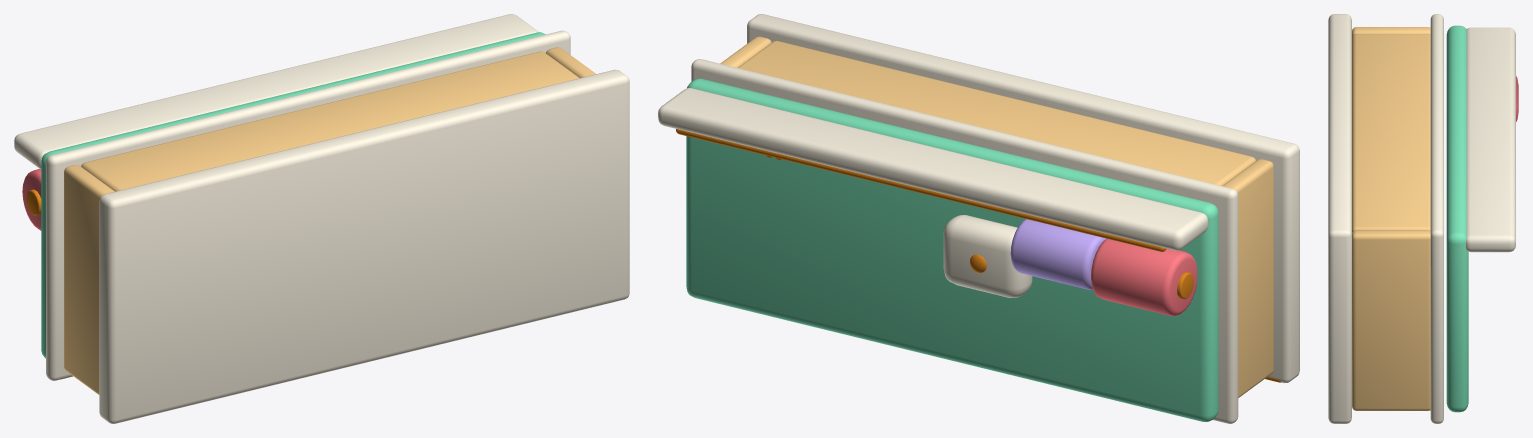
The model's file is BedroomWindowDaybed_Premium.fbx.
3 views of the same model, side by side, from view 1: azimuth 30°, elevation 25°; view 2: azimuth 150°, elevation 25°; view 3: azimuth 270°, elevation 25° (orthographic). The views are drawn at different scales.
Visible parts, largest first — view 1: BedroomWindowDaybed; view 2: BedroomWindowDaybed; view 3: BedroomWindowDaybed.
Boxes of the visible parts, x1,y1,x2,y2 form: BedroomWindowDaybed: (14,14,629,423); BedroomWindowDaybed: (658,14,1299,423); BedroomWindowDaybed: (1328,14,1518,423).
Bounding box in the file's own units: 2 × 0.82 × 0.73.
